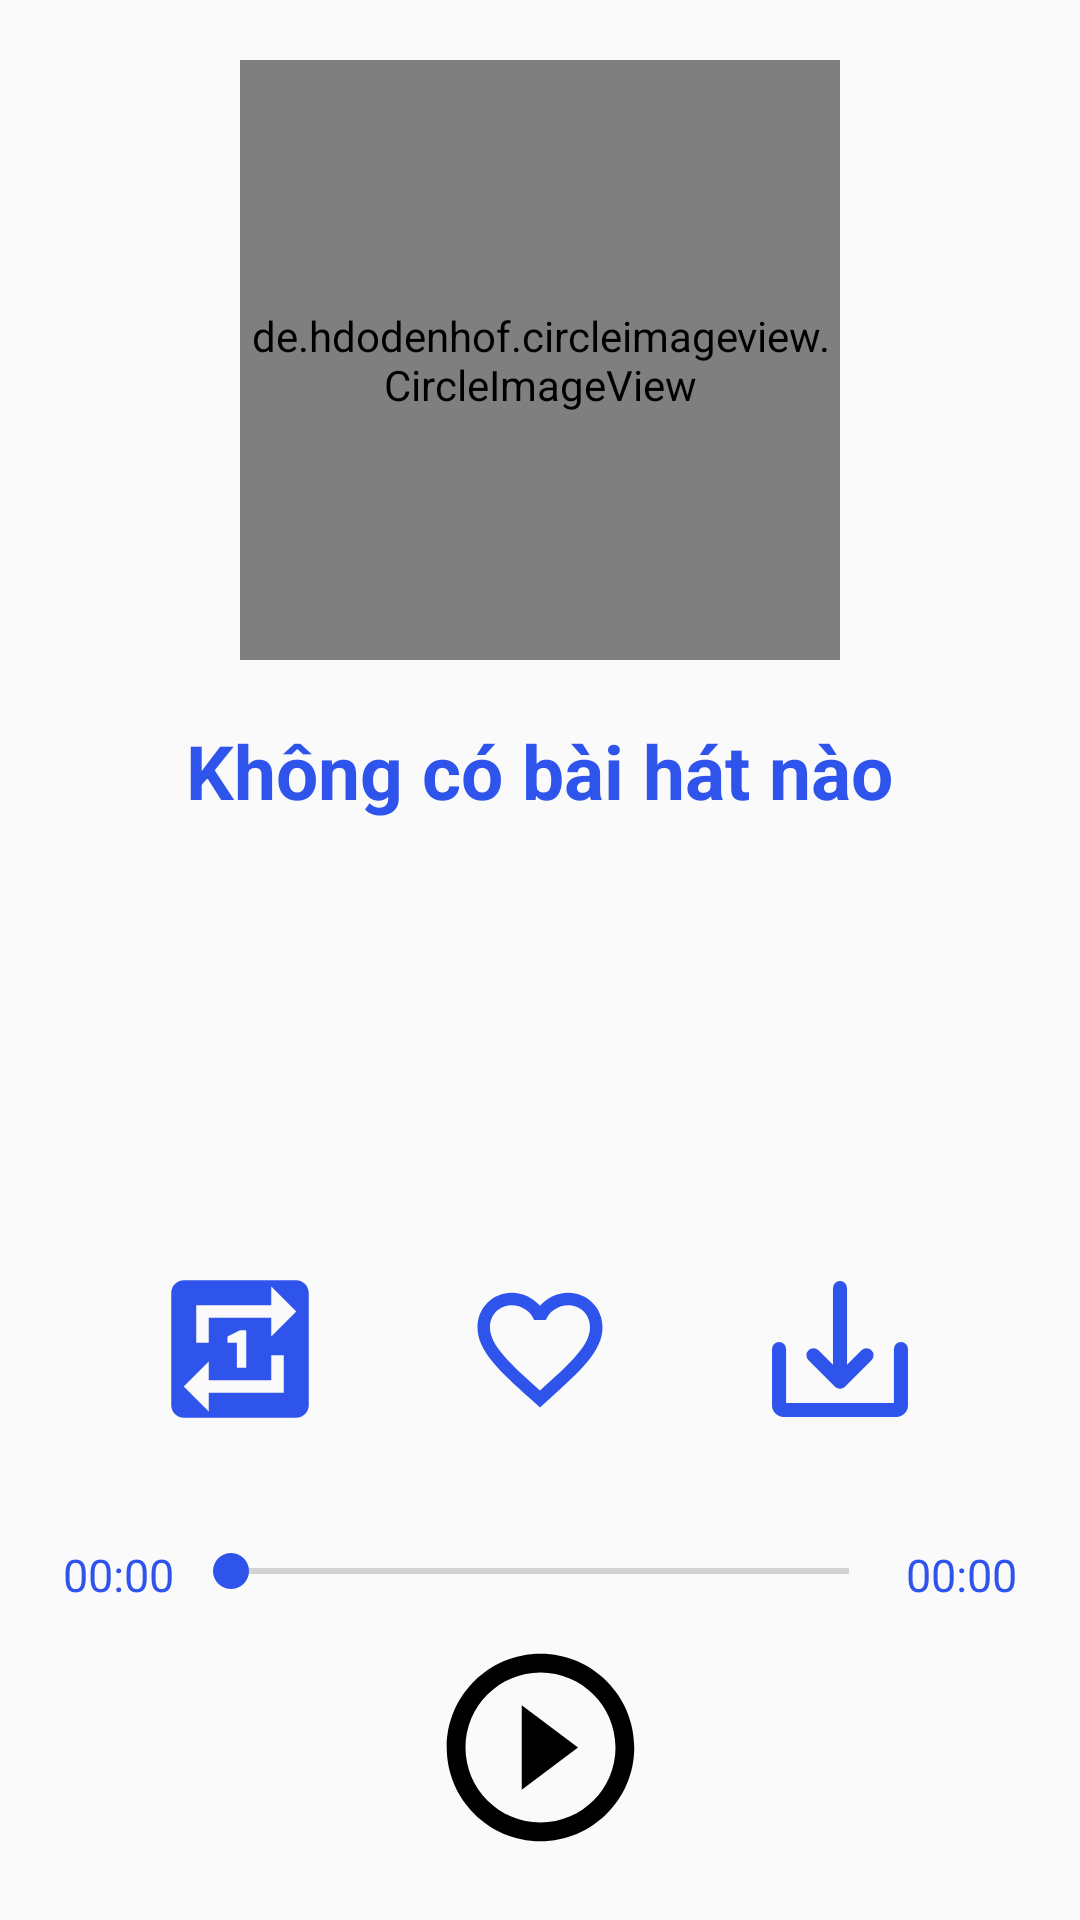

Screen size 1080×1920. Icon name, then its center in pixels as point (x, y):
download: point (840, 1349)
favorite border: point (540, 1350)
play circle: point (540, 1747)
repeat one on: point (240, 1349)
